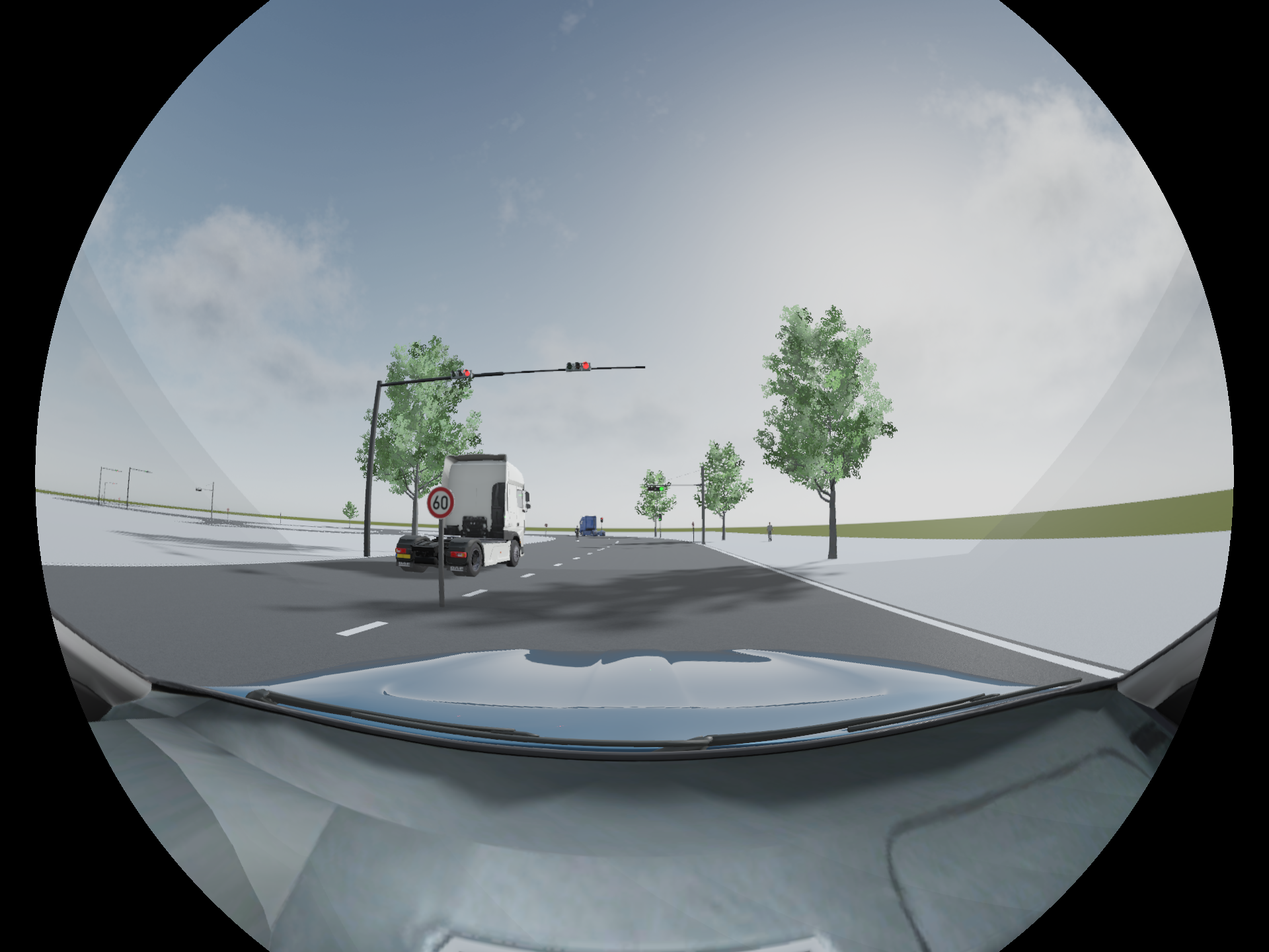Green Light: (647, 485, 664, 492)
Red Light: (566, 361, 592, 374), (450, 368, 472, 379)
Speed Limit 60: (426, 487, 453, 518)
